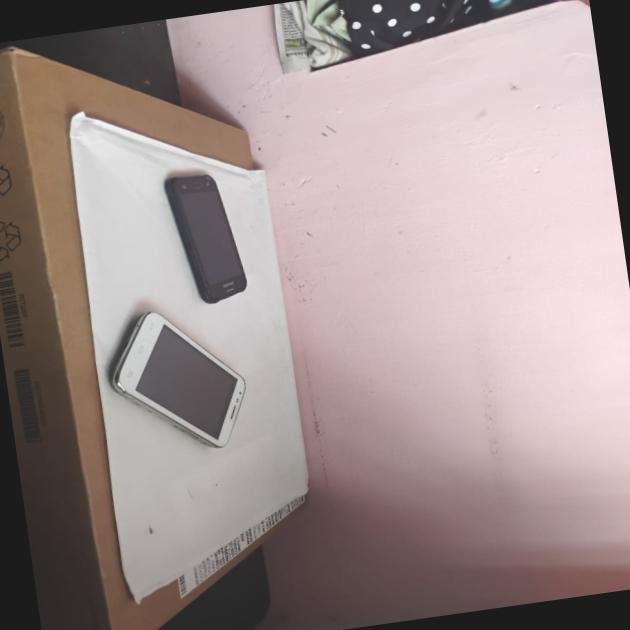phone: (96, 302, 240, 463), (158, 162, 251, 303)
